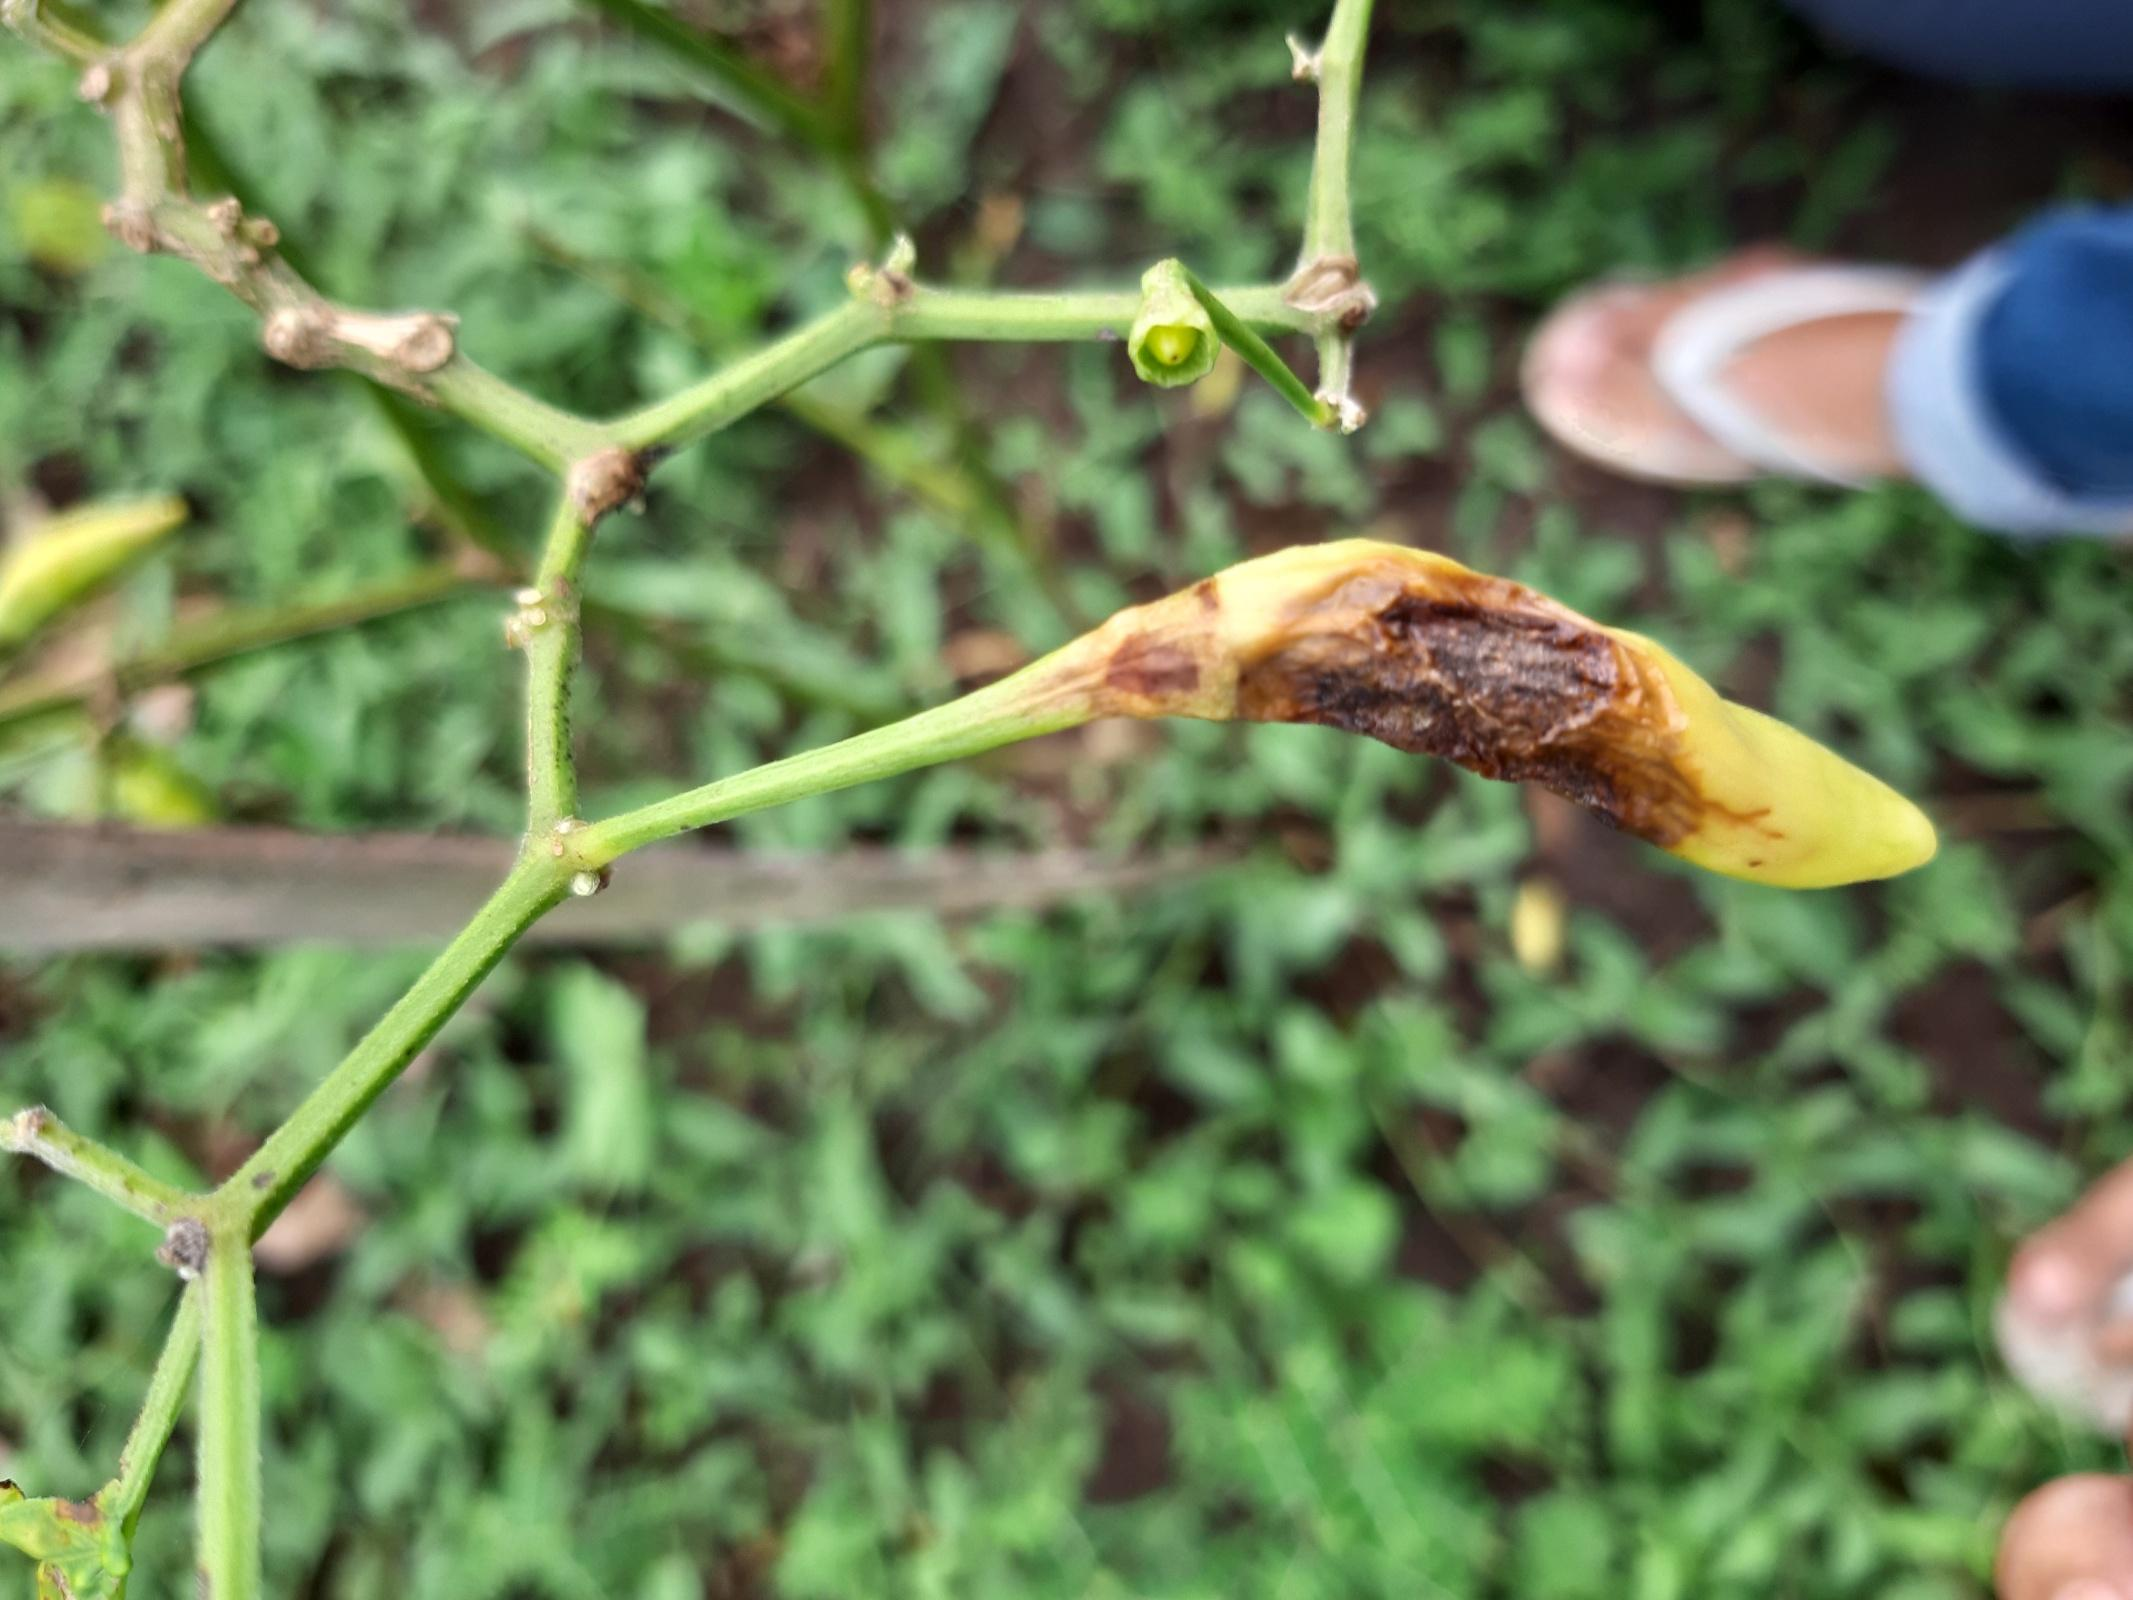antraknosa: (1212, 541, 1935, 891)
